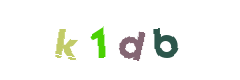1: (60, 0, 140, 80)
B: (109, 0, 189, 80)
D: (80, 0, 160, 80)
K: (42, 0, 122, 80)
